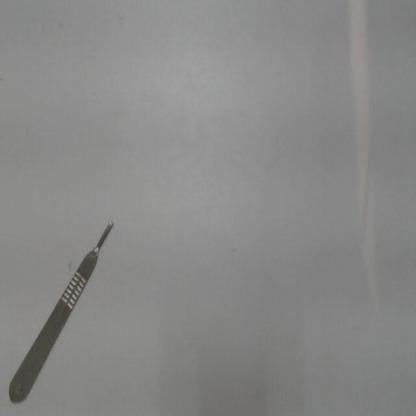No.3 BP Handle: (1, 207, 119, 408)
